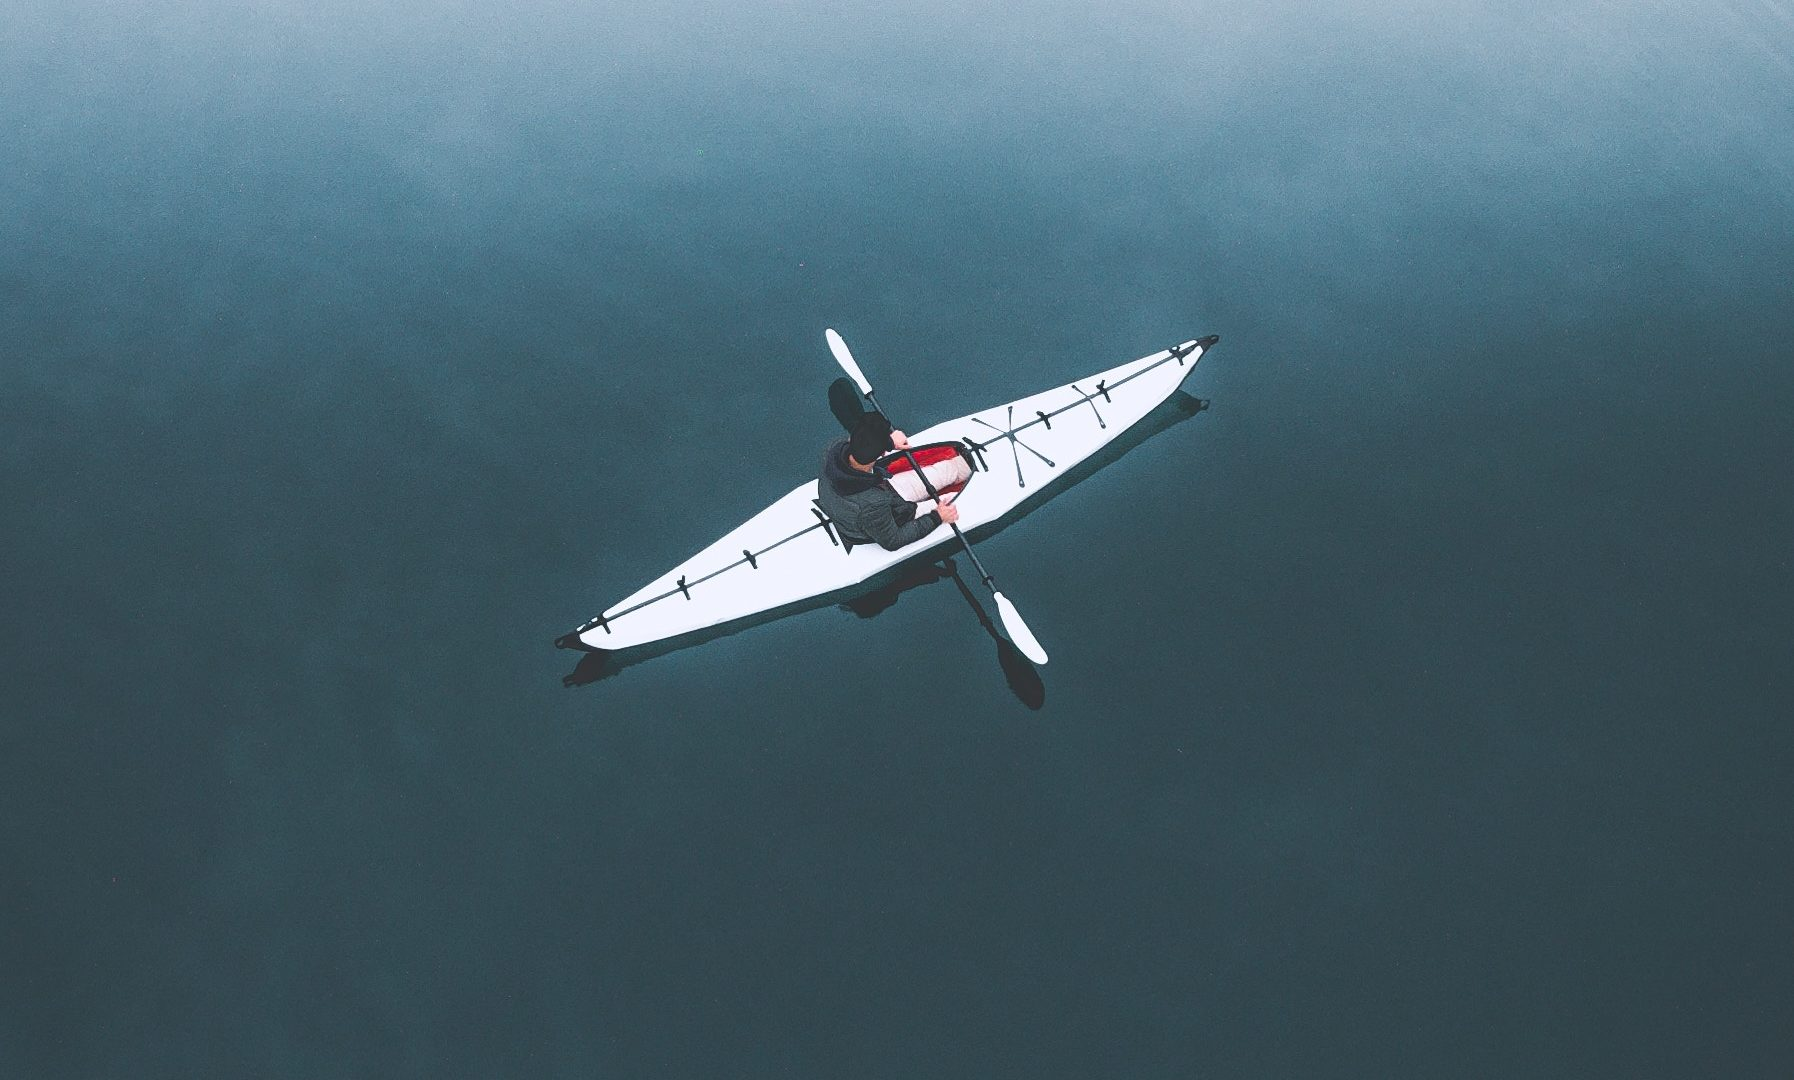kayaker: (546, 318, 1228, 691)
